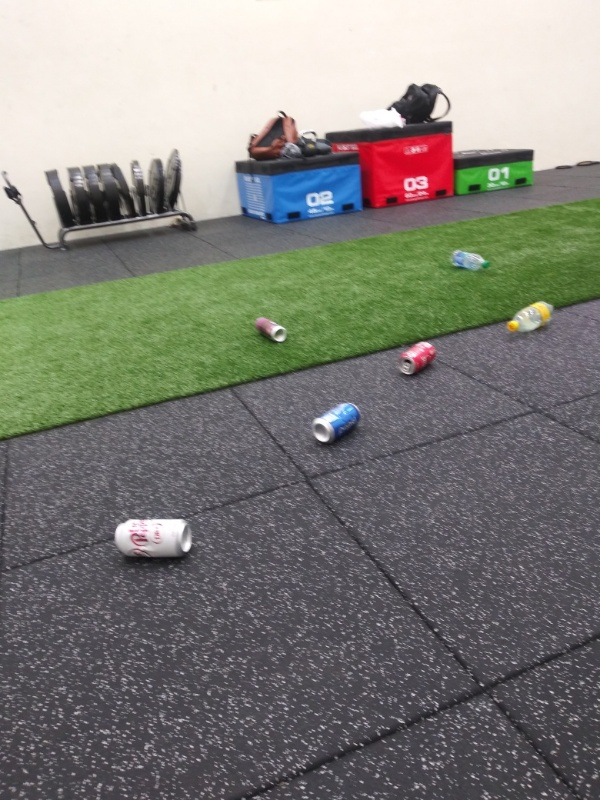bottle: (500, 296, 562, 336), (442, 245, 491, 272)
can: (110, 516, 197, 560), (310, 398, 364, 445), (393, 336, 440, 380), (251, 313, 289, 345)
